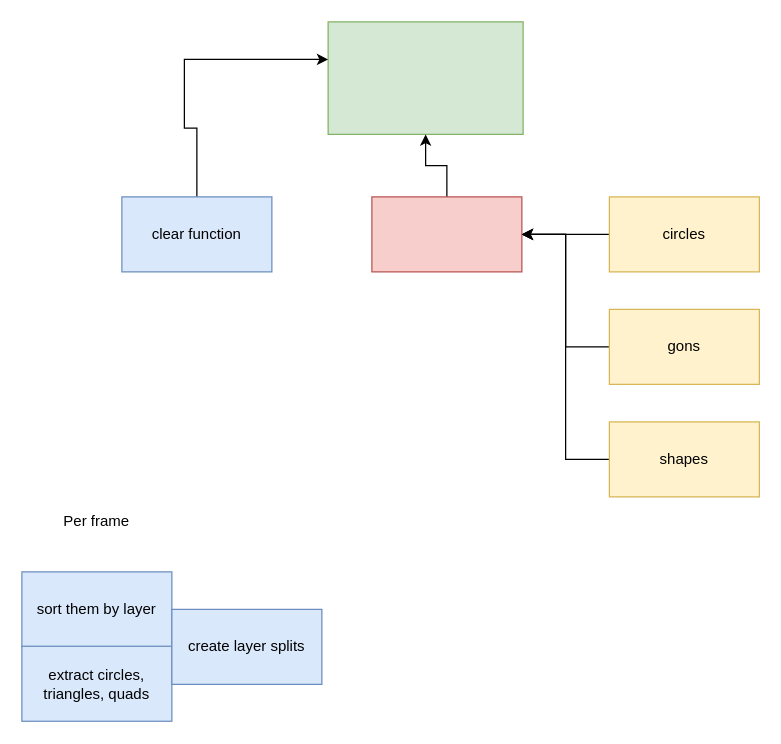
Image size: 781x744. Some labels were removed from this diagram. Here are the shapes that lost their labels. From the top down, the box of each, then its label:
(327, 21, 523, 134): Obj pool
(371, 196, 522, 272): 3 lists
